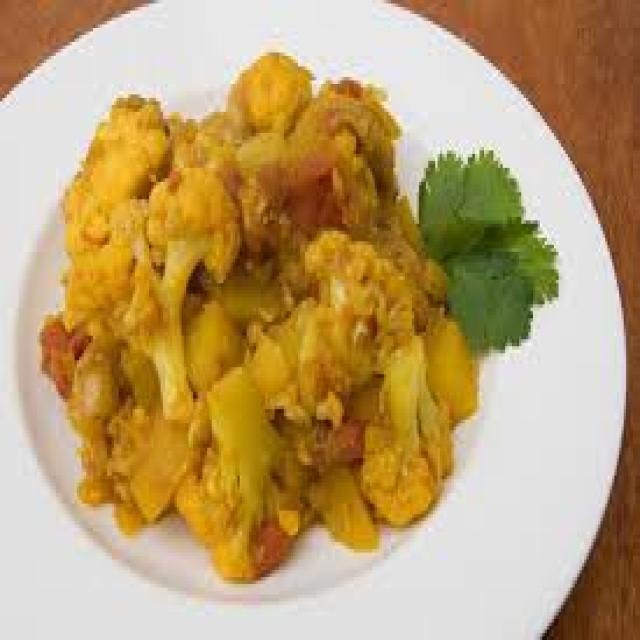aloo_gobi: (51, 47, 484, 541)
